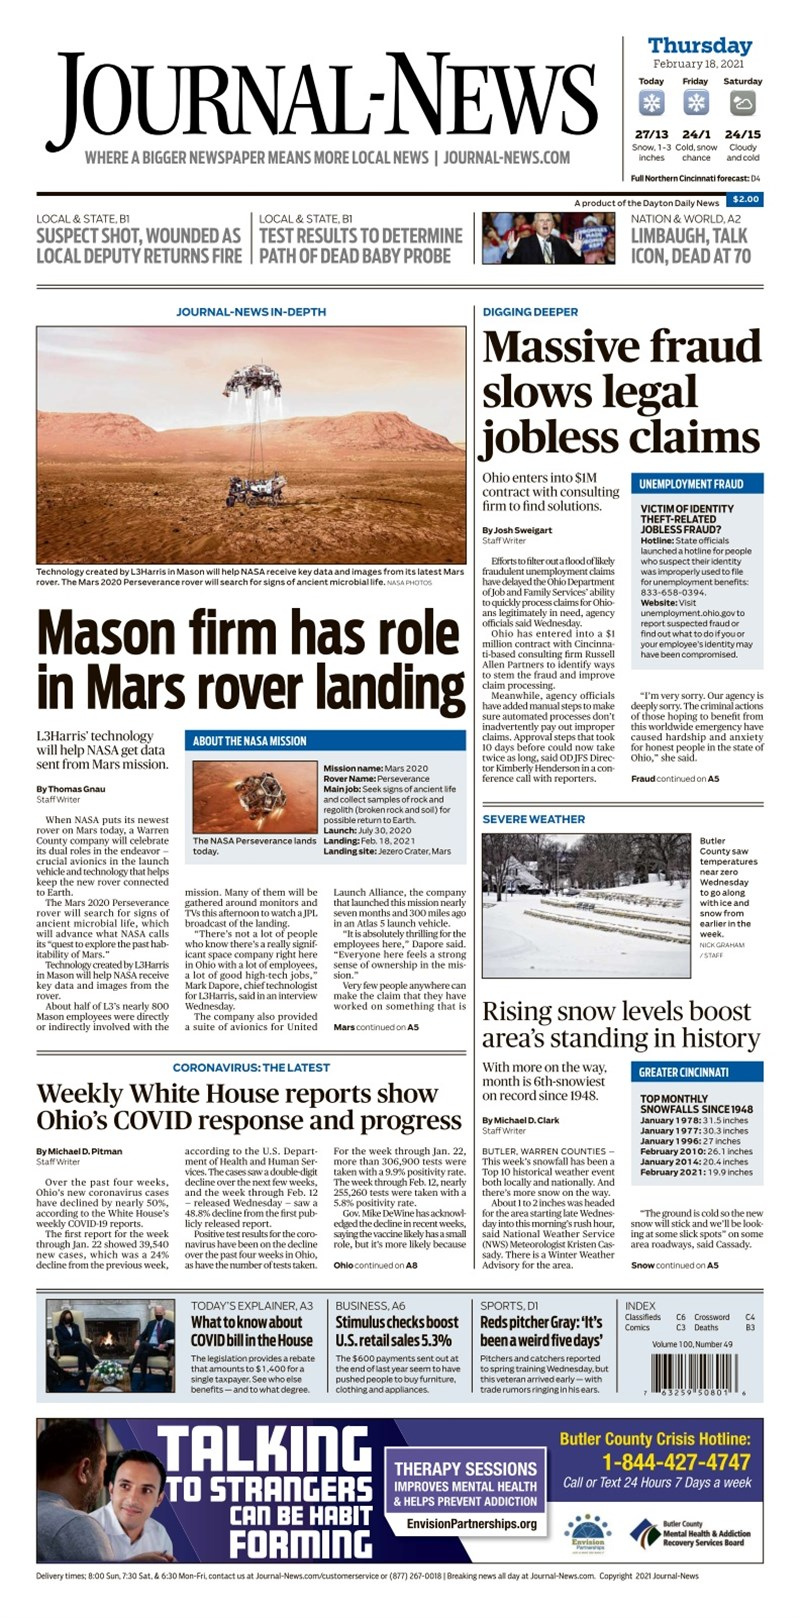news_paper: (4, 8, 798, 1618)
